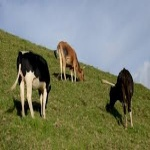Animal: (15, 50, 51, 119), (109, 67, 135, 130), (57, 41, 84, 83)
Uncultivated: (4, 50, 147, 148)
